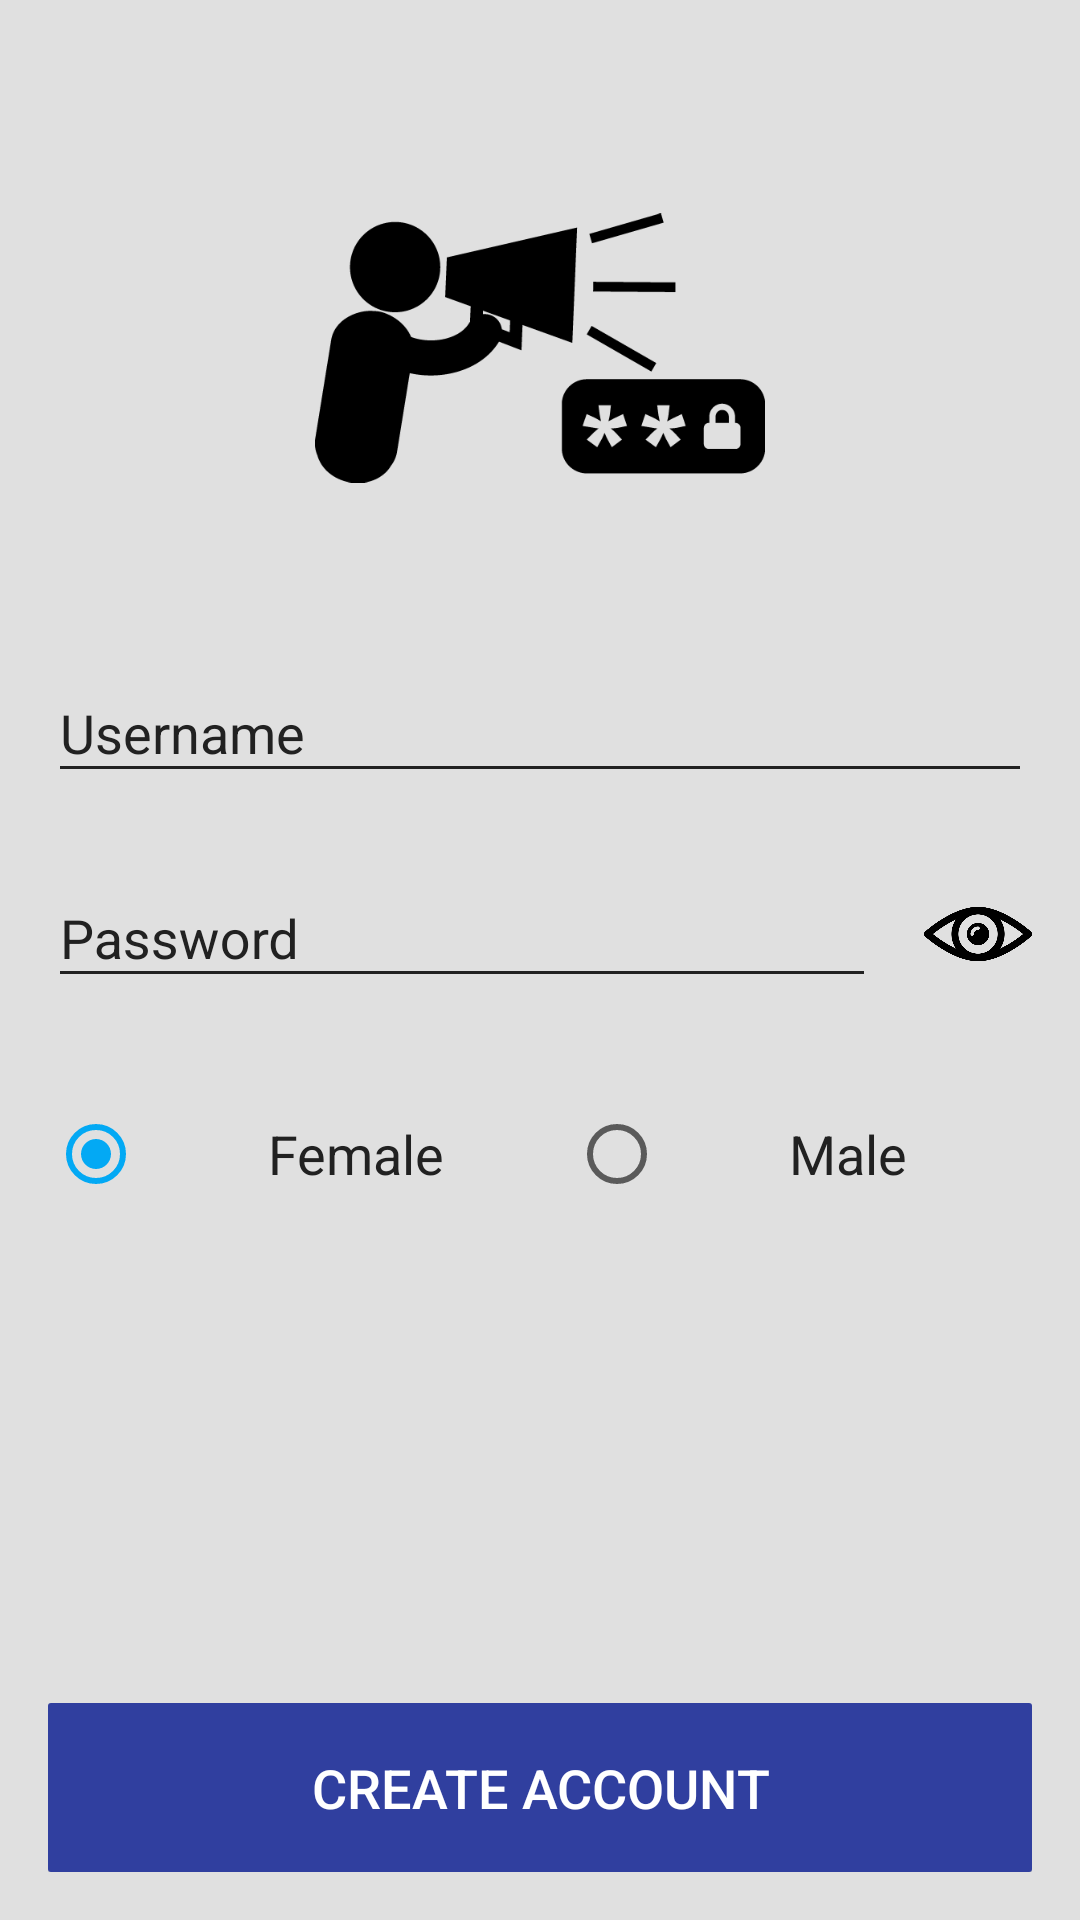

Screen size 1080 x 1920. Icon name, then its center in pixels as point (x, y):
eye: point (978, 934)
